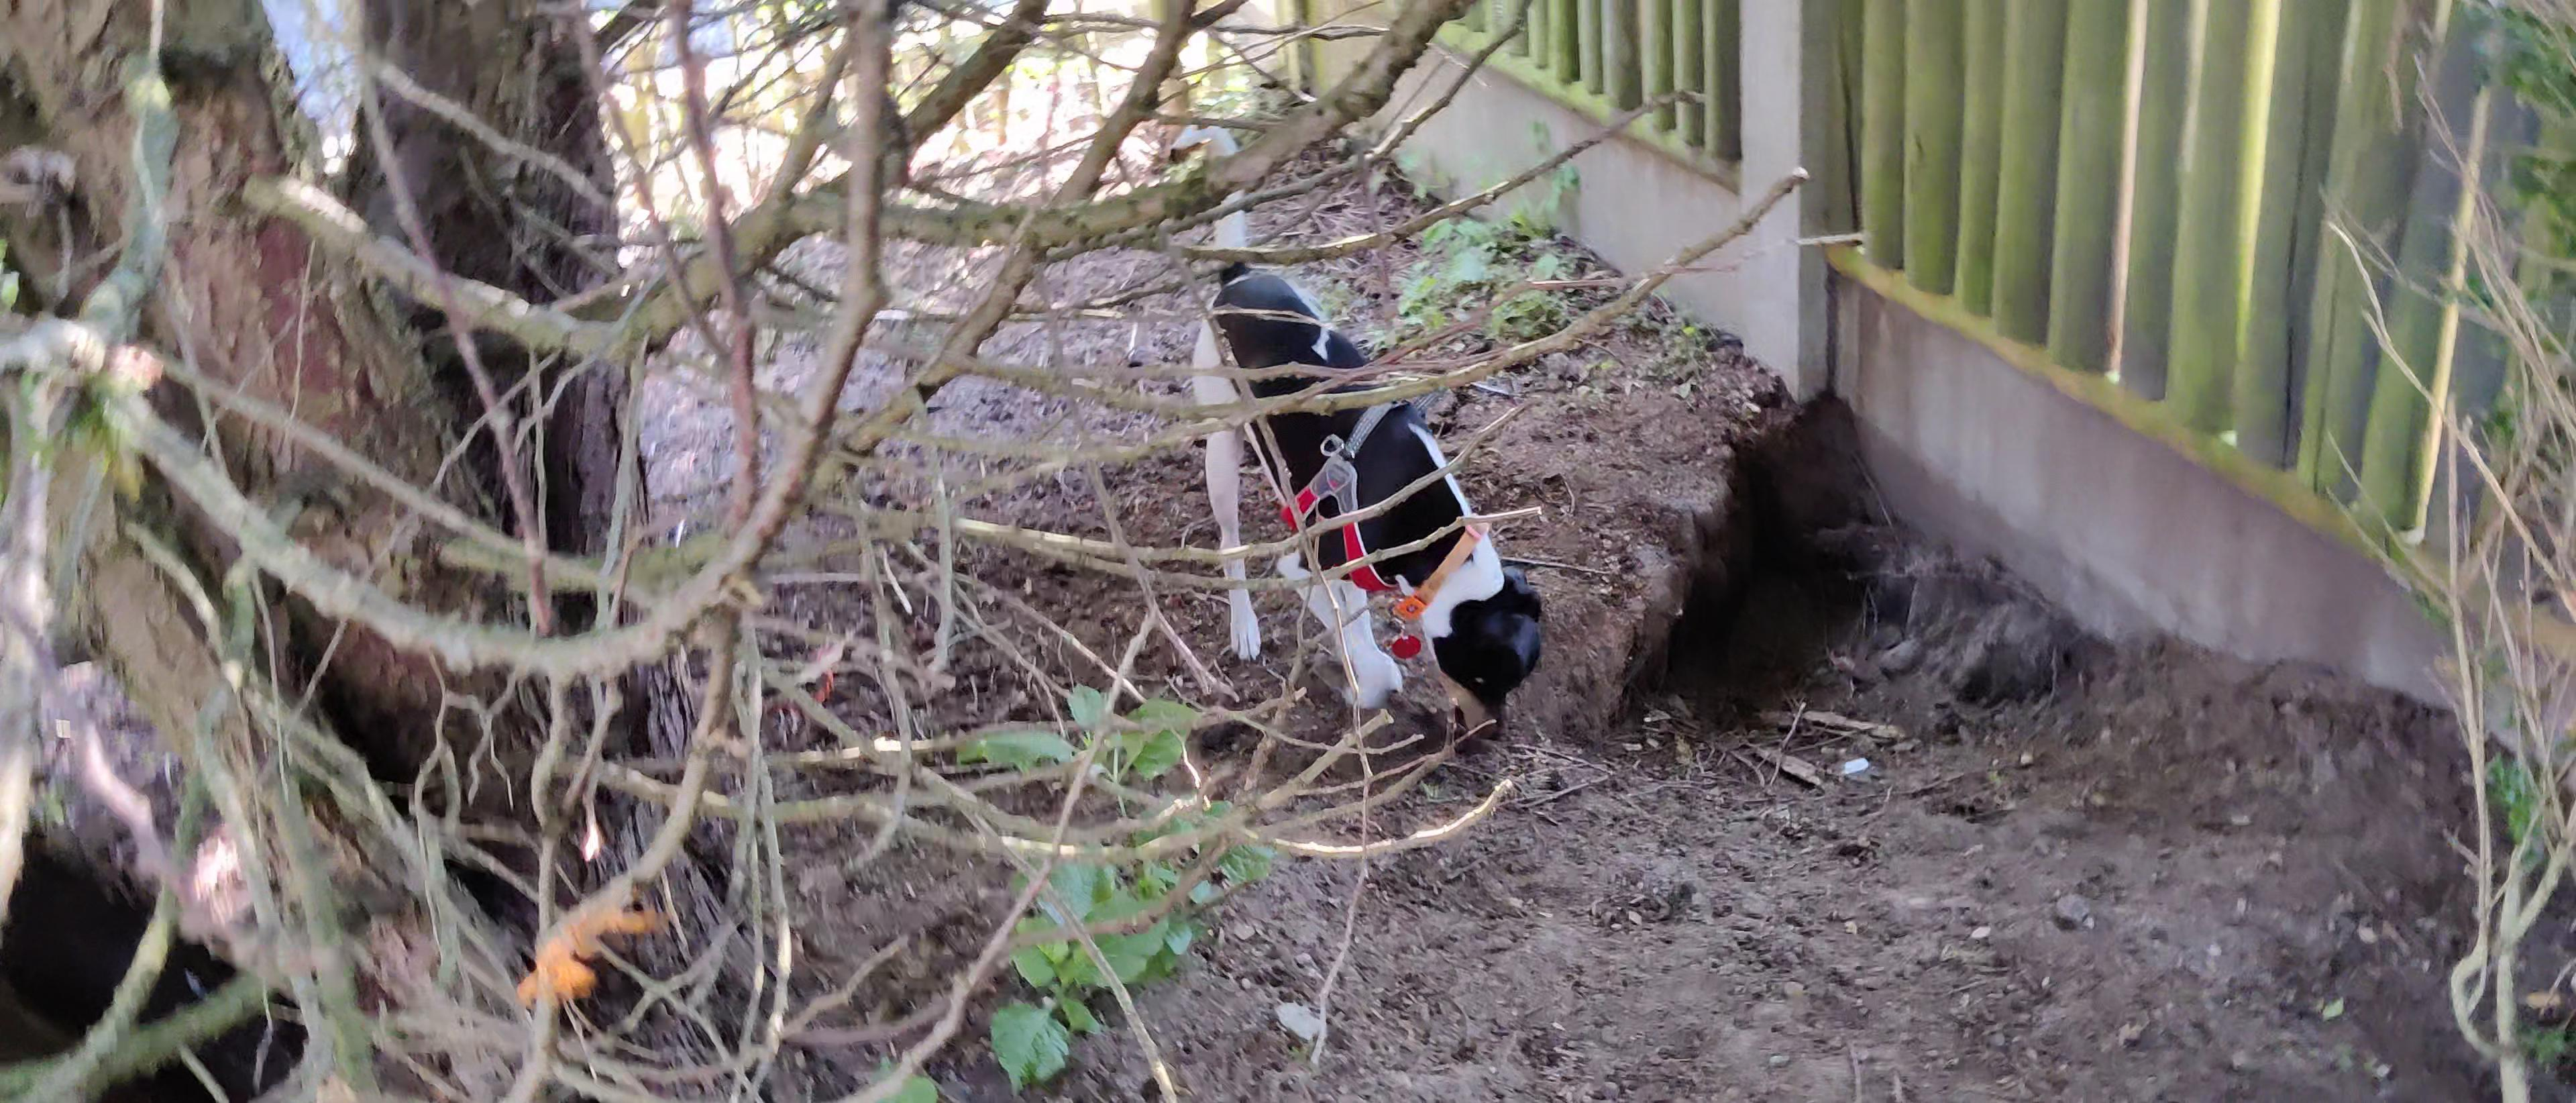Dog: (1132, 99, 1571, 748)
